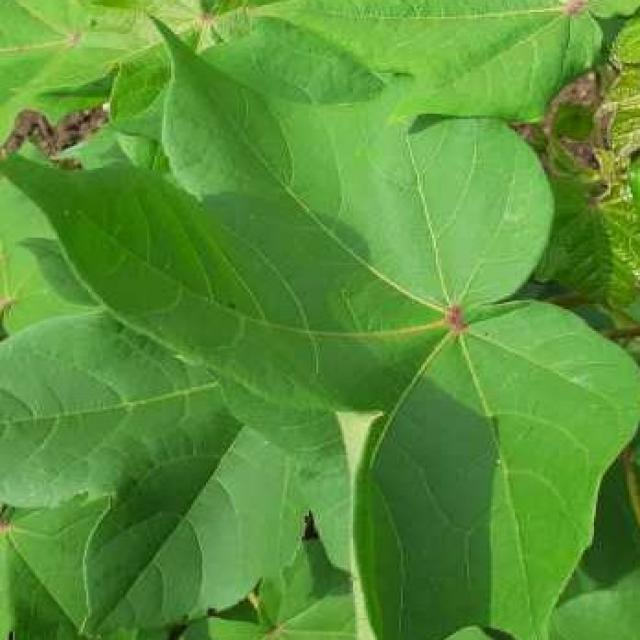Healthy Leaf: (14, 30, 603, 640)
